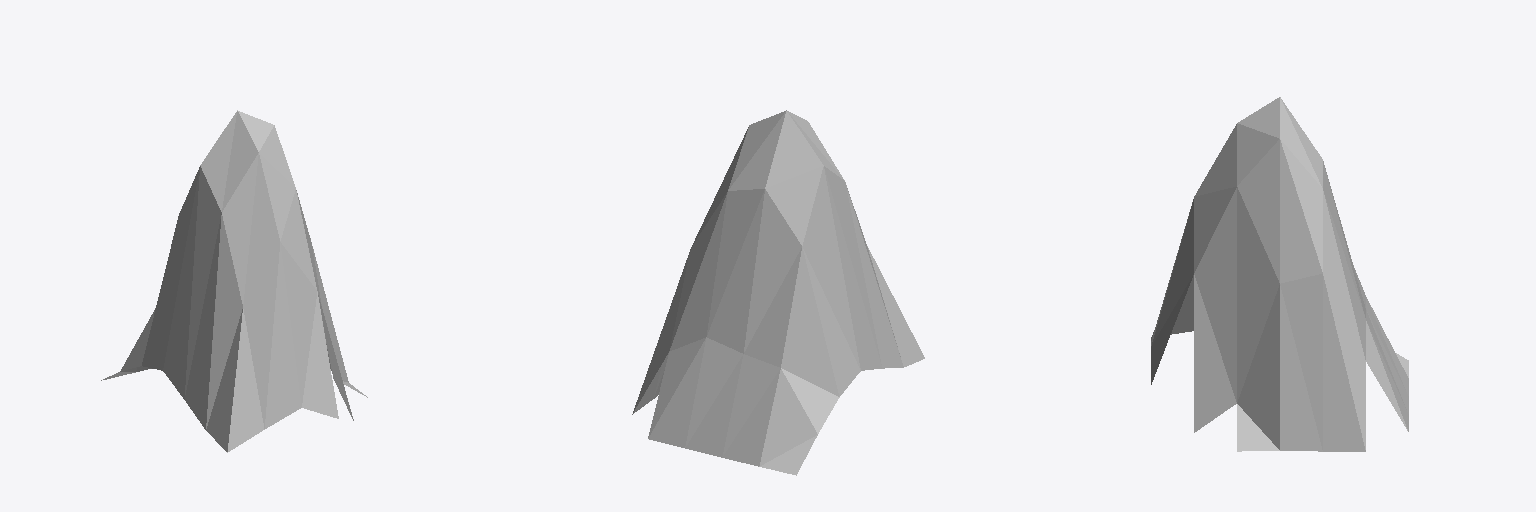
File: tree_70.obj
3 renders of one model, left to right at view 1: azimuth 30°, elevation 25°; view 2: azimuth 150°, elevation 25°; view 3: azimuth 270°, elevation 25°, orthographic.
Parts seen in each view (by area): view 1: tree_70; view 2: tree_70; view 3: tree_70.
Boxes of the visible parts, box(x1,y1,x2,y2) form: tree_70: box(101, 110, 367, 452); tree_70: box(632, 110, 924, 475); tree_70: box(1151, 97, 1408, 451).
Bounding box in the file's own units: 5 × 7.72 × 6.